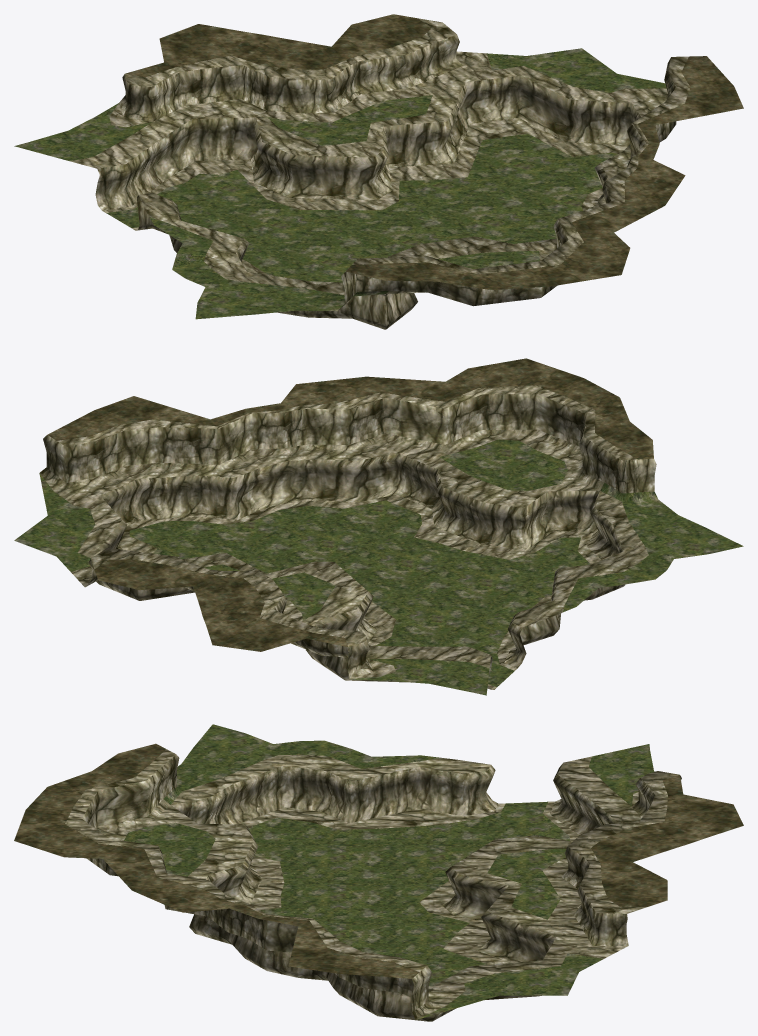
File: CB_NEWPLAYSURFACE_CB_PLAYSURFACE57.fbx
3 views of the same model, one above another, from view 1: azimuth 30°, elevation 25°; view 2: azimuth 150°, elevation 25°; view 3: azimuth 270°, elevation 25° (orthographic). The views are drawn at different scales.
Parts seen in each view (by area): view 1: CB_NEWPLAYSURFACE_CB_PLAYSURFACE57; view 2: CB_NEWPLAYSURFACE_CB_PLAYSURFACE57; view 3: CB_NEWPLAYSURFACE_CB_PLAYSURFACE57.
Boxes of the visible parts, x1=… form: CB_NEWPLAYSURFACE_CB_PLAYSURFACE57: x1=14, y1=14, x2=743, y2=329; CB_NEWPLAYSURFACE_CB_PLAYSURFACE57: x1=14, y1=358, x2=743, y2=695; CB_NEWPLAYSURFACE_CB_PLAYSURFACE57: x1=14, y1=724, x2=743, y2=1021.
Size of the model in its own units: 584629 by 70842 by 609229.
4 materials, 4 textured.
